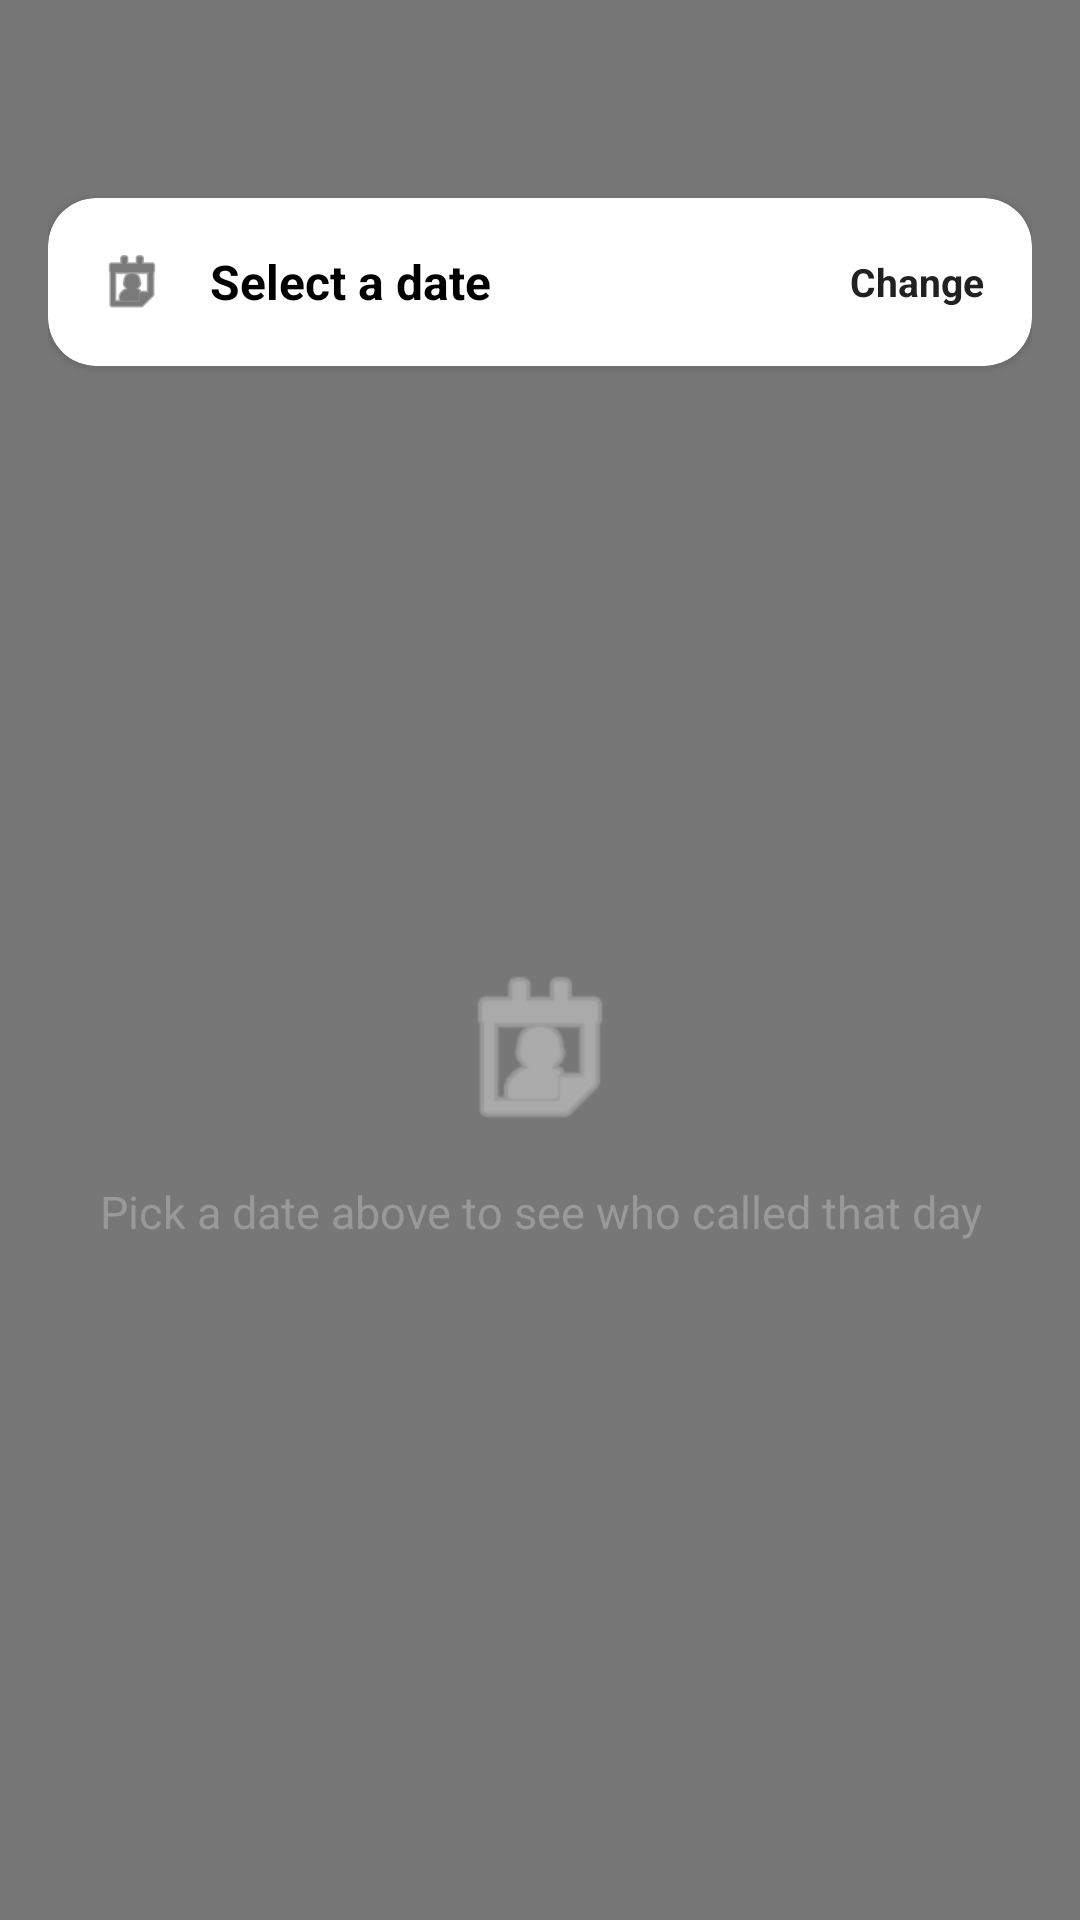

Screen size 1080 × 1920. Icon name, then its center in pixels as [x,y]:
calendar: [132,281], [540,1047]
